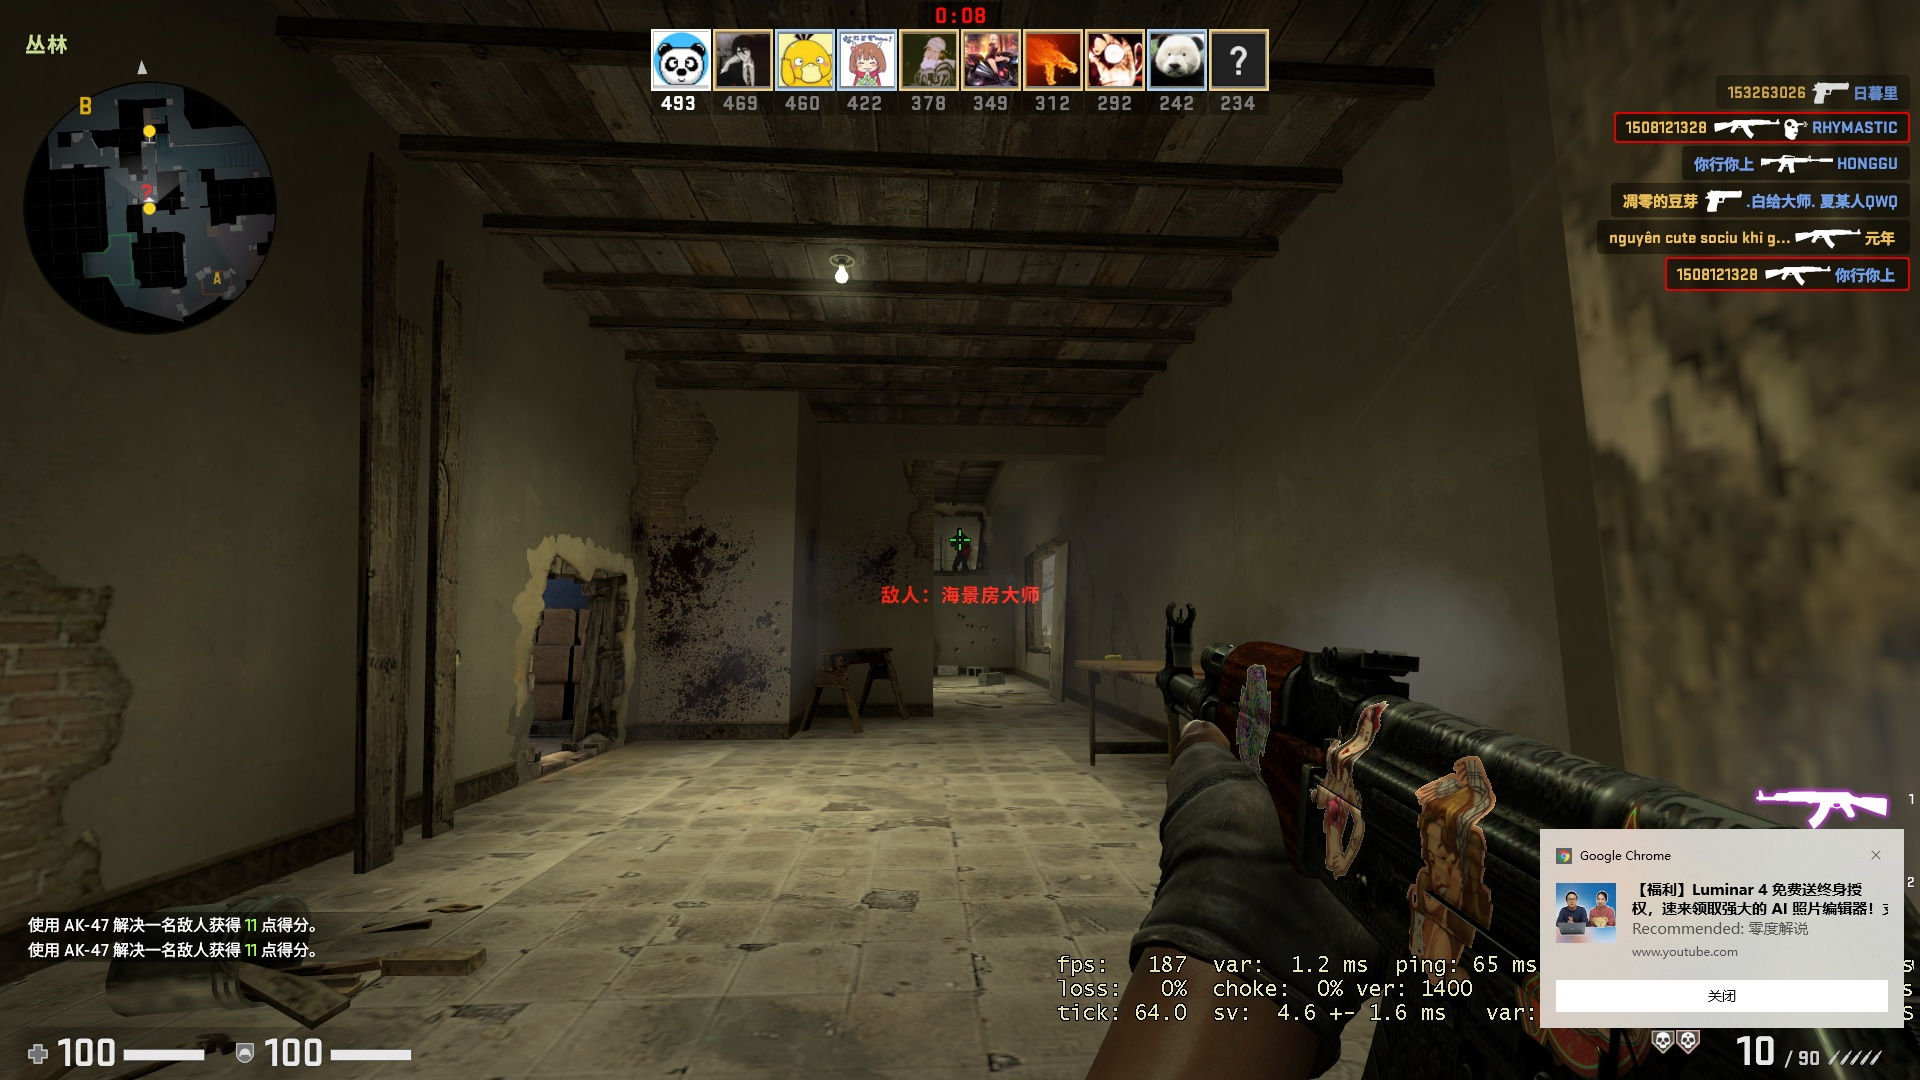body: (949, 527, 974, 573)
head: (956, 526, 964, 536)
